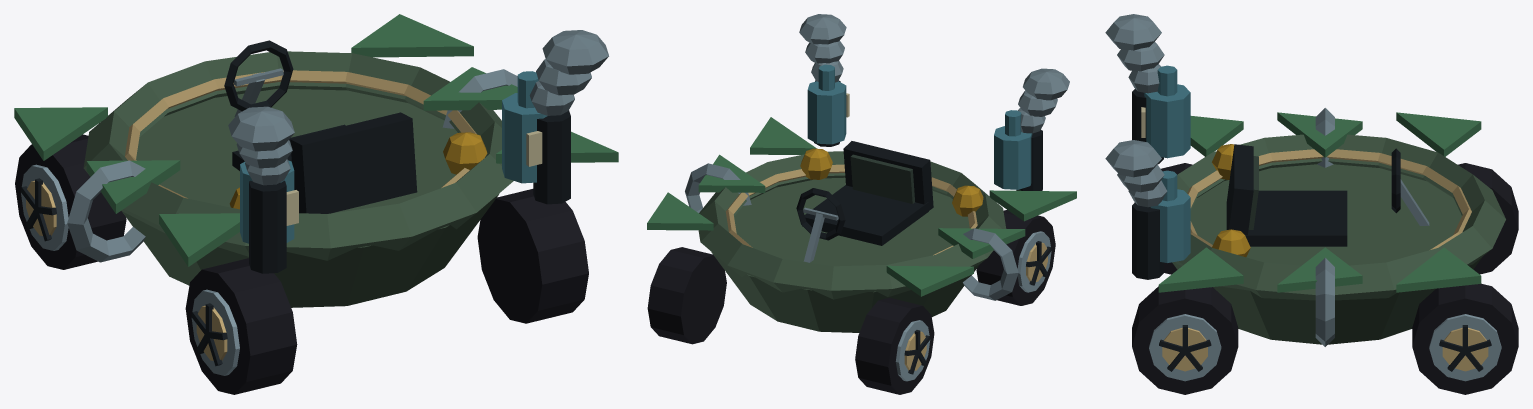
The model's file is kart.glb.
3 renders of one model, left to right at view 1: azimuth 30°, elevation 25°; view 2: azimuth 150°, elevation 25°; view 3: azimuth 270°, elevation 25°, orthographic. The views are drawn at different scales.
Parts seen in each view (by area): view 1: identity-cauldron-cauldron-open-pot-and-handles, identity-cauldron-motif-leaves, identity-cauldron-motif-smoke, identity-cauldron-driver-cockpit, wheel-rear-left, wheel-rear-right, wheel-front-left, identity-cauldron-motif-bottles; view 2: identity-cauldron-cauldron-open-pot-and-handles, identity-cauldron-driver-cockpit, identity-cauldron-motif-leaves, wheel-front-left, wheel-front-right, identity-cauldron-motif-bottles, identity-cauldron-motif-smoke, wheel-rear-left; view 3: identity-cauldron-cauldron-open-pot-and-handles, identity-cauldron-motif-leaves, wheel-front-right, wheel-rear-right, identity-cauldron-driver-cockpit, identity-cauldron-motif-smoke, identity-cauldron-motif-bottles, wheel-front-left.
Boxes of the visible parts, x1,y1,x2,y2 form: identity-cauldron-cauldron-open-pot-and-handles: (67, 51, 517, 307); identity-cauldron-motif-leaves: (14, 14, 618, 266); identity-cauldron-motif-smoke: (228, 30, 608, 273); identity-cauldron-driver-cockpit: (224, 40, 417, 213); wheel-rear-left: (185, 258, 297, 394); wheel-rear-right: (477, 189, 588, 323); wheel-front-left: (15, 134, 126, 269); identity-cauldron-motif-bottles: (240, 71, 547, 243); identity-cauldron-cauldron-open-pot-and-handles: (685, 148, 1018, 332); identity-cauldron-driver-cockpit: (796, 141, 933, 262); identity-cauldron-motif-leaves: (647, 117, 1076, 296); wheel-front-left: (855, 297, 934, 394); wheel-front-right: (647, 247, 726, 344); identity-cauldron-motif-bottles: (807, 64, 1032, 189); identity-cauldron-motif-smoke: (799, 14, 1069, 190); wheel-rear-left: (976, 210, 1055, 305); identity-cauldron-cauldron-open-pot-and-handles: (1172, 108, 1505, 346); identity-cauldron-motif-leaves: (1158, 112, 1481, 292); wheel-front-right: (1412, 283, 1518, 394); wheel-rear-right: (1132, 286, 1238, 394); identity-cauldron-driver-cockpit: (1226, 144, 1429, 246); identity-cauldron-motif-smoke: (1105, 14, 1167, 279); identity-cauldron-motif-bottles: (1141, 65, 1190, 262); wheel-front-left: (1458, 163, 1518, 274).
Size of the model in its own units: 2.51 by 1.53 by 2.33.
